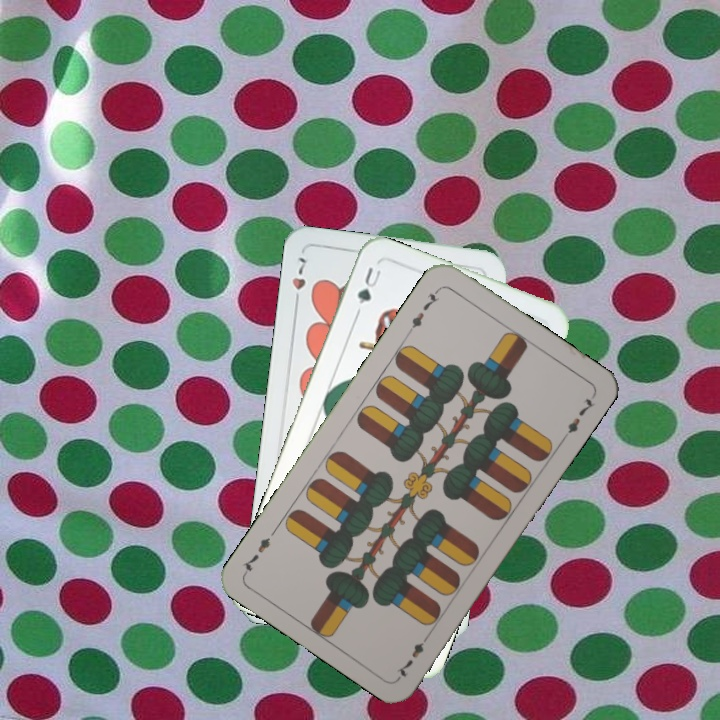E7: (392, 629, 433, 681), (404, 284, 443, 337)
GU: (353, 263, 384, 307)
H7: (288, 253, 309, 309)
